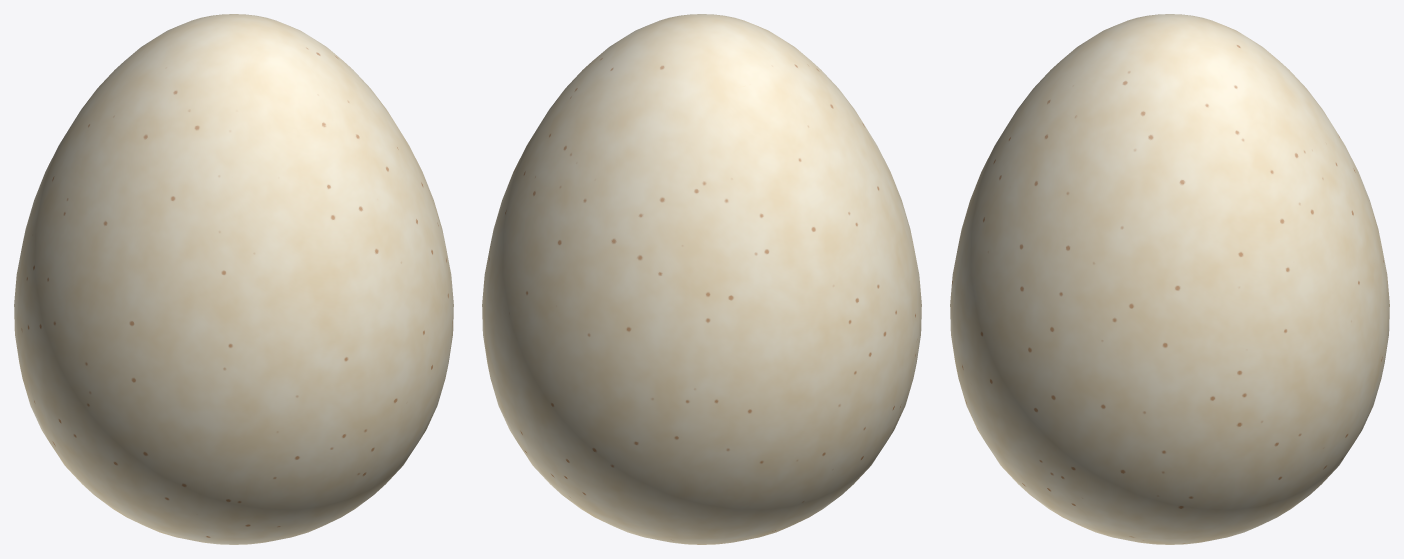
Rendered from Plain Egg.fbx.
The picture shows the model from 3 angles, left to right: view 1: azimuth 30°, elevation 25°; view 2: azimuth 150°, elevation 25°; view 3: azimuth 270°, elevation 25°; orthographic projection.
Parts seen in each view (by area): view 1: Plain Egg; view 2: Plain Egg; view 3: Plain Egg.
Boxes of the visible parts, box(x1,y1,x2,y2) form: Plain Egg: box(14, 14, 453, 544); Plain Egg: box(482, 14, 921, 544); Plain Egg: box(950, 14, 1389, 544).
Size of the model in its own units: 4 by 5 by 4.
Materials: 1 (1 with a texture image).
